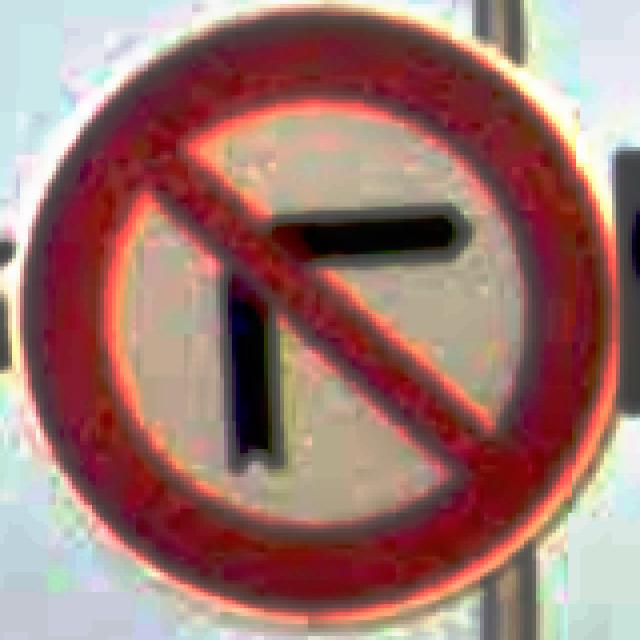noturnright: (20, 0, 624, 620)
